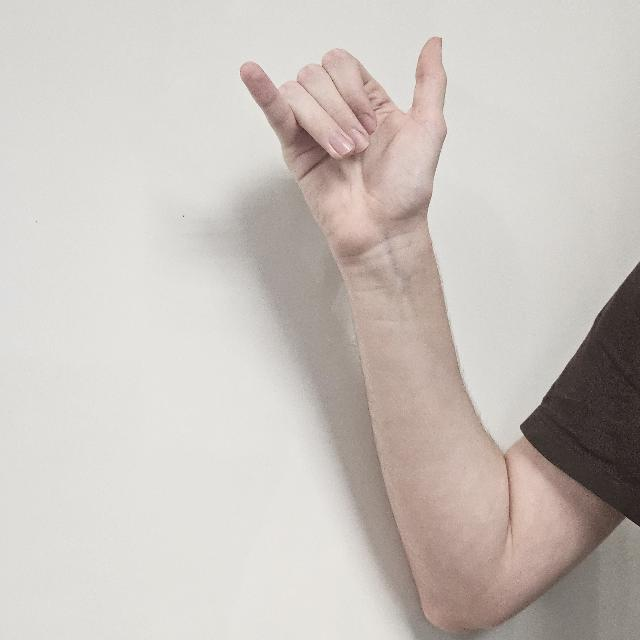Direita: (237, 29, 449, 282)
